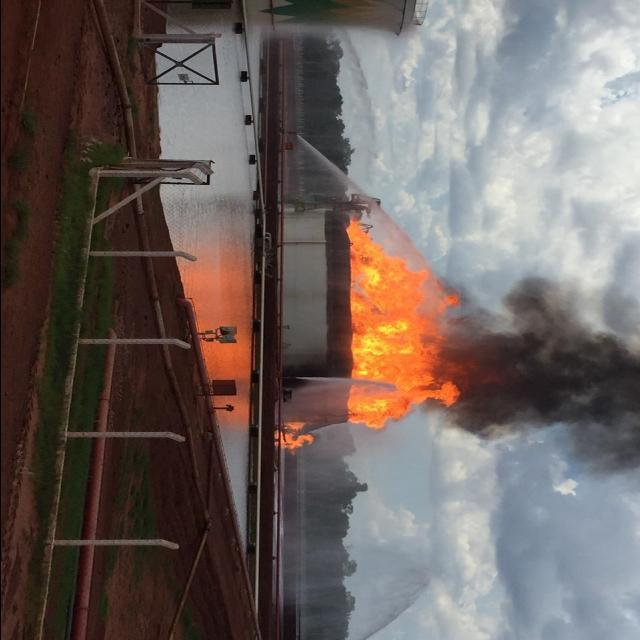Fire: (348, 223, 453, 421), (279, 420, 309, 448)
